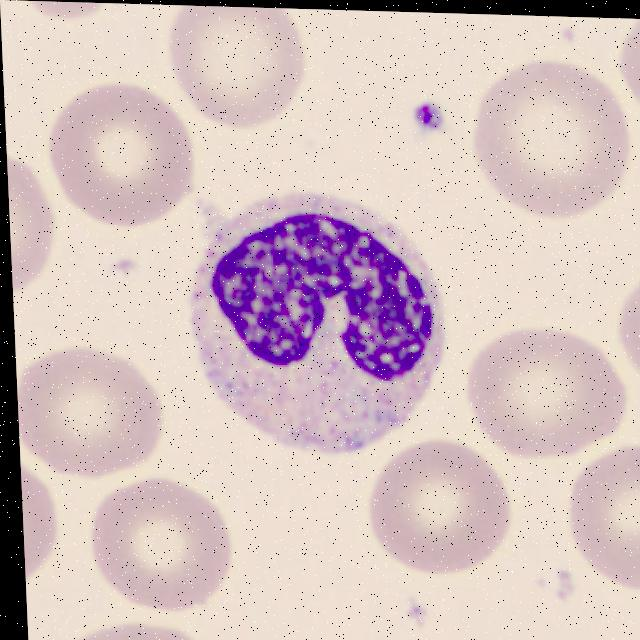neutrophil: (185, 185, 453, 460)
platelets: (396, 89, 457, 147)
rbc: (473, 67, 627, 208), (47, 81, 197, 225), (462, 329, 619, 450), (363, 445, 514, 570), (174, 5, 310, 128), (95, 489, 231, 609), (17, 362, 167, 470), (565, 446, 640, 595), (6, 146, 56, 293), (21, 464, 58, 589), (613, 290, 640, 391), (610, 29, 640, 99), (21, 1, 122, 20)
